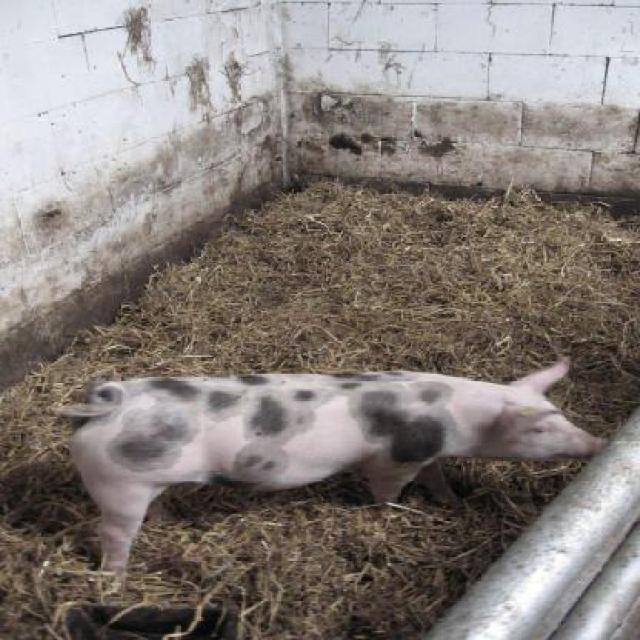Boar: (56, 355, 607, 591)
